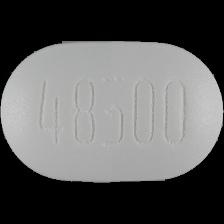0093-5049: (0, 0, 224, 224)
